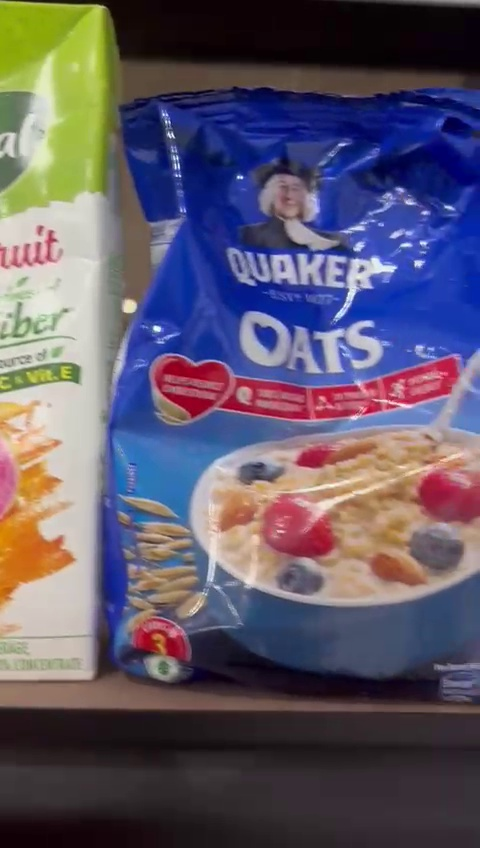Quaker Oats: (115, 86, 480, 696)
